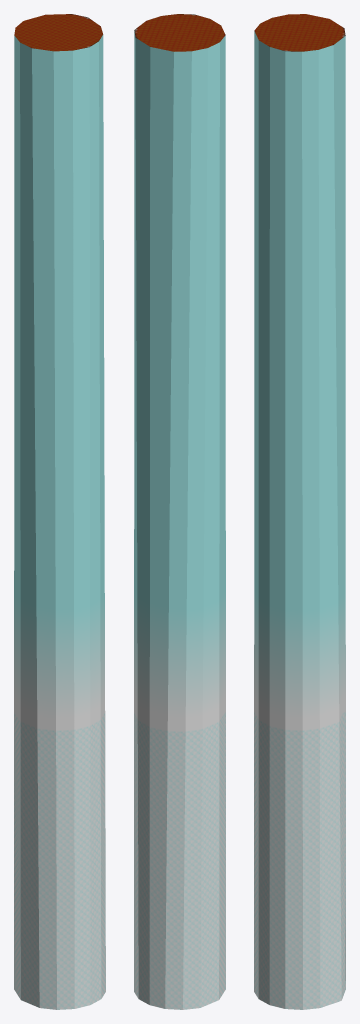
Rendered from Сигарета_реимп.fbx.
3 views of the same model, side by side, from view 1: azimuth 30°, elevation 25°; view 2: azimuth 150°, elevation 25°; view 3: azimuth 330°, elevation 25° (orthographic).
Visible parts, largest first — view 1: Сигарета; view 2: Сигарета; view 3: Сигарета.
Part boxes in pixels (x1,y1,x2,y2): Сигарета: (14, 14, 105, 1009); Сигарета: (134, 14, 225, 1009); Сигарета: (254, 14, 345, 1009).
Size of the model in its own units: 0.7158 by 8.03 by 0.6865.
Materials: 1 (1 with a texture image).
